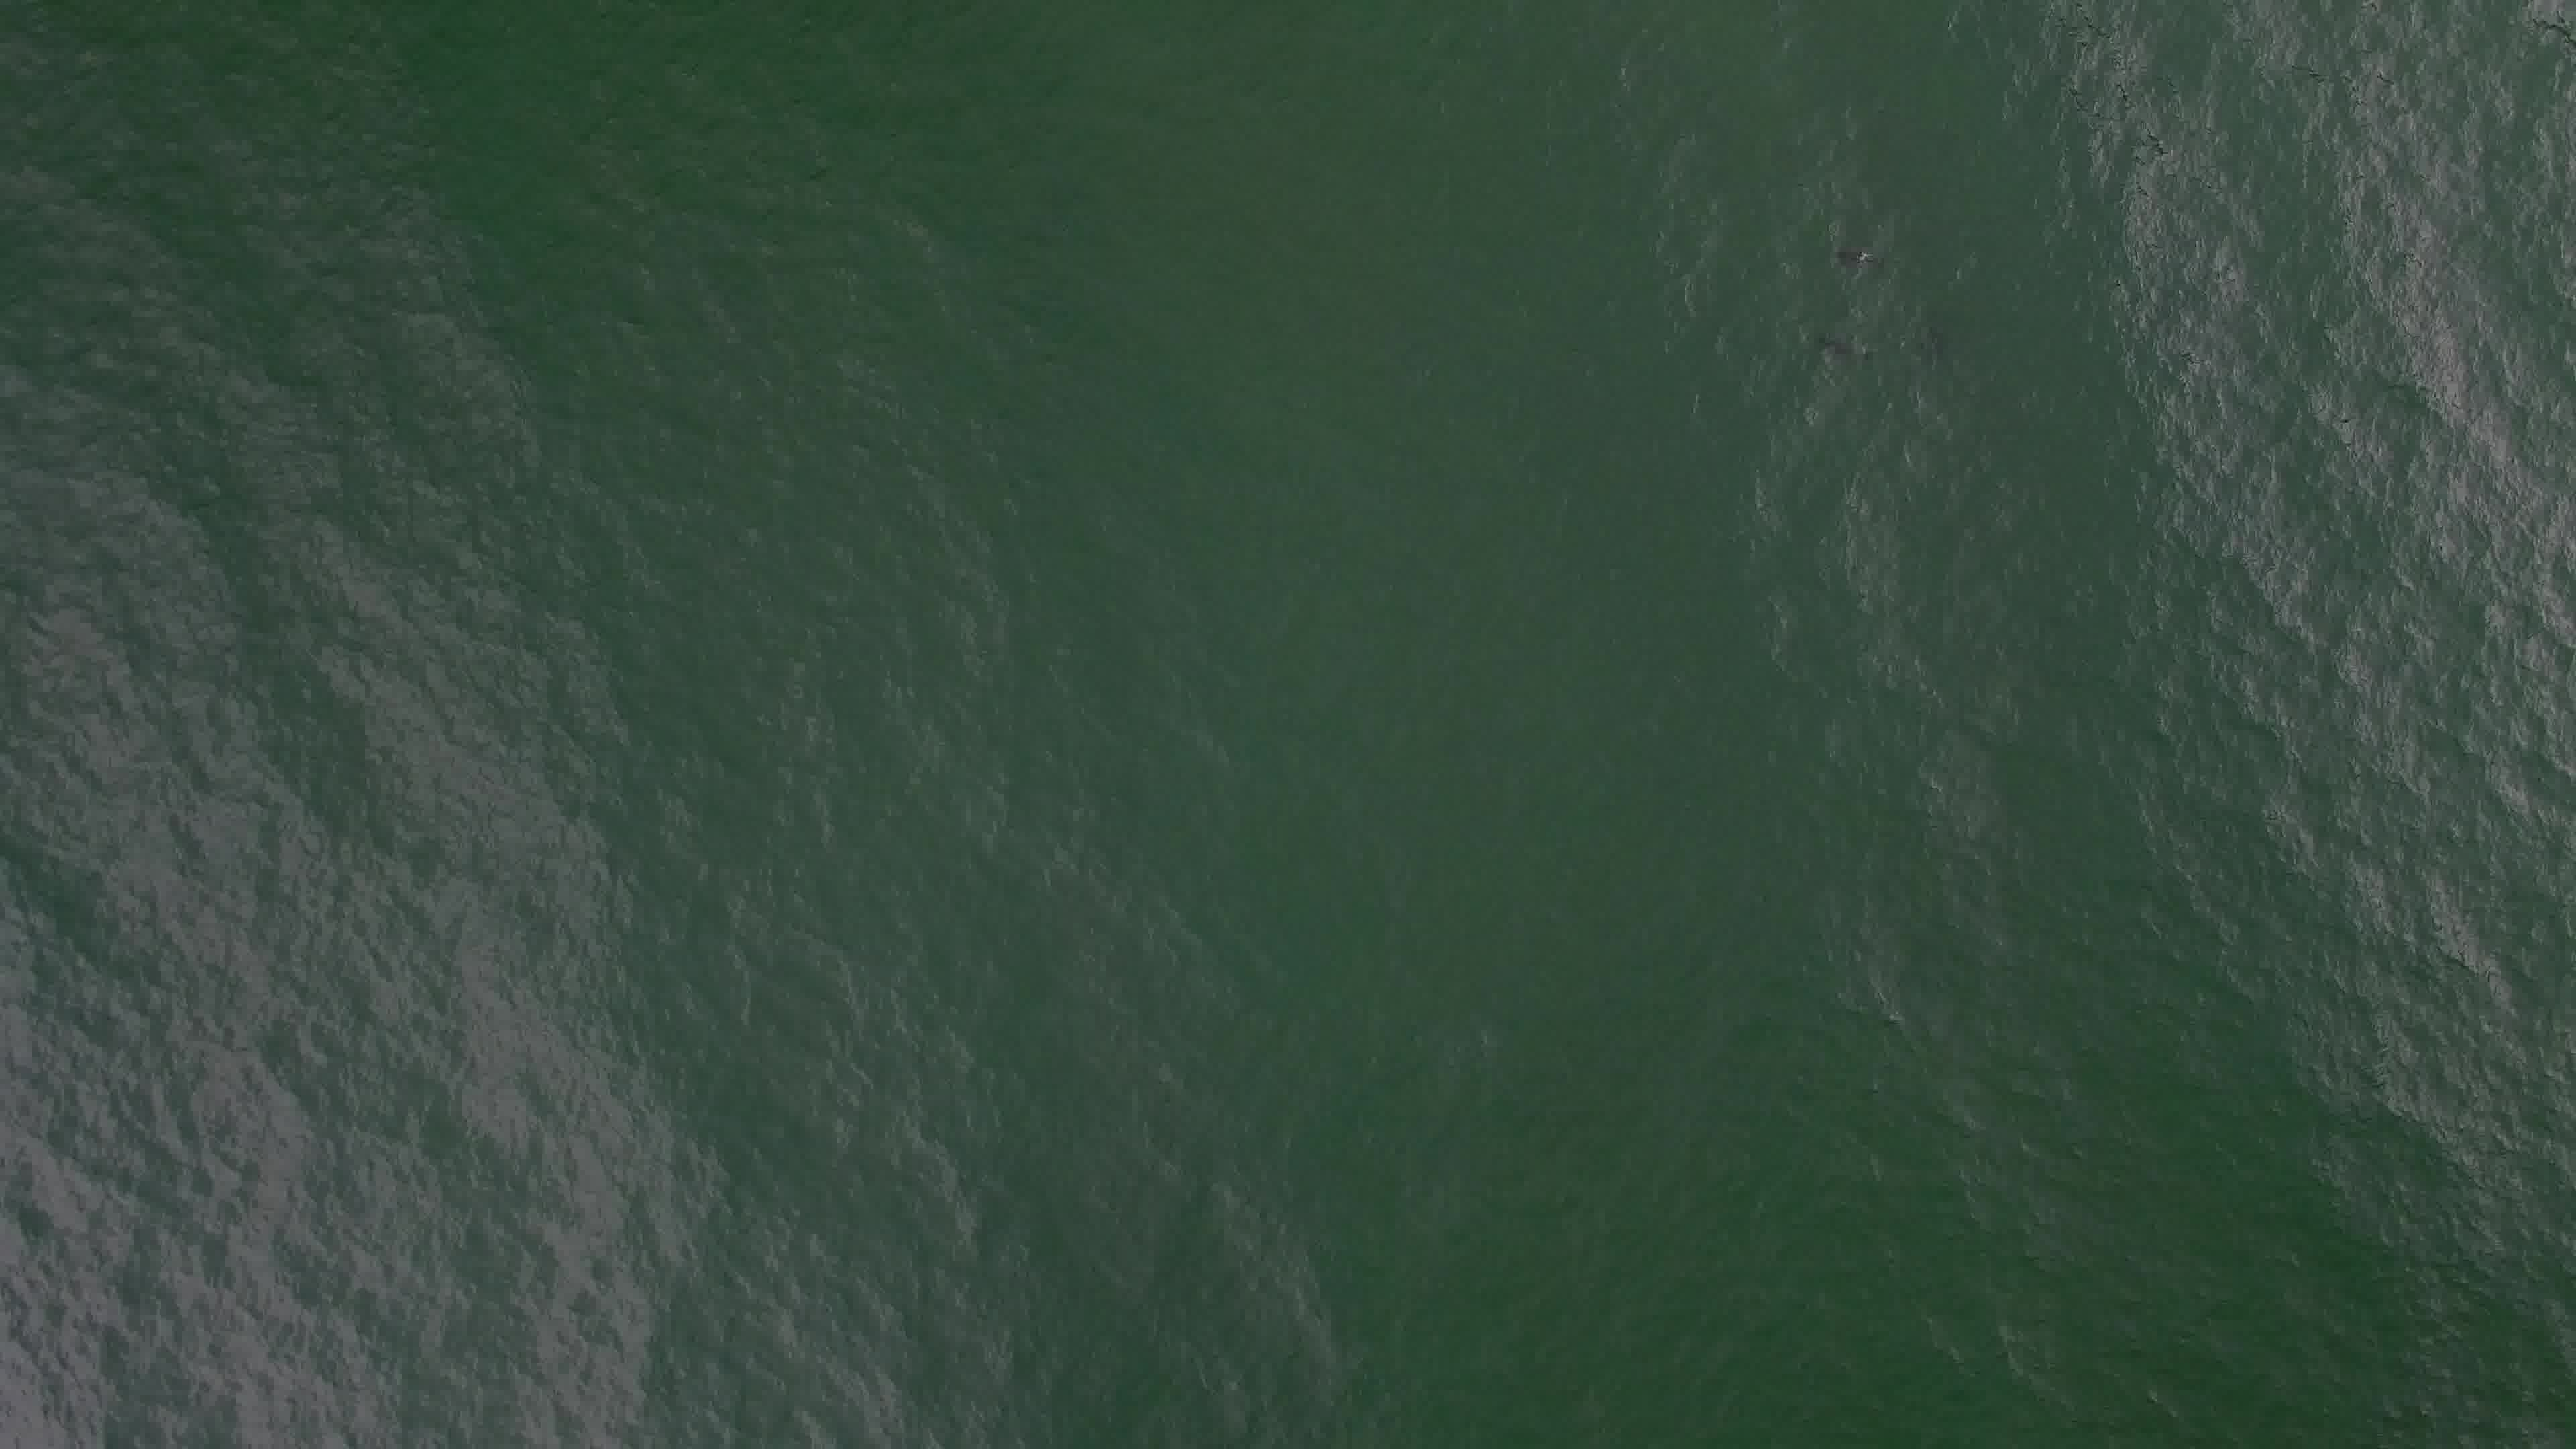dolphin: (1794, 304, 1879, 373), (1812, 223, 1893, 283)
